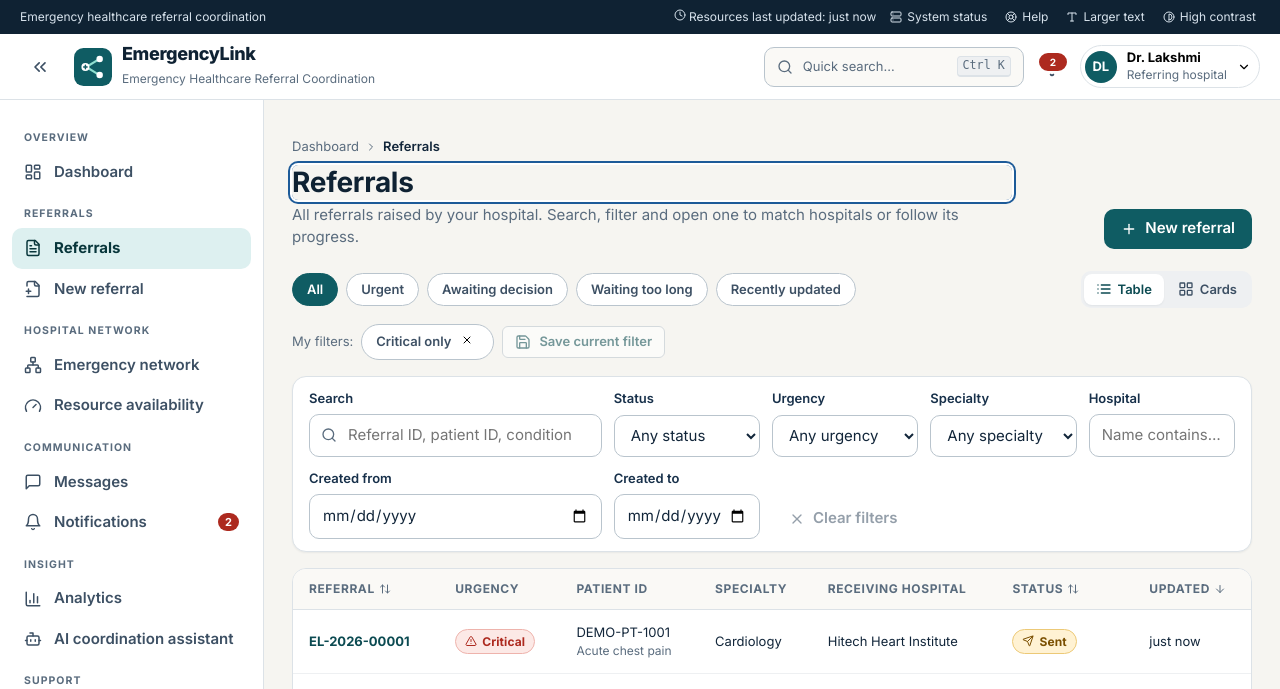
Test: administrator tools: ownership, settings, reports, audit, hospitals, saved filters › applies a saved filter on the referrals page
What coordinates should you click on to do the following:
click the button "Critical only"
I would click on:
 (414, 342)
Its box is [376, 332, 451, 352].
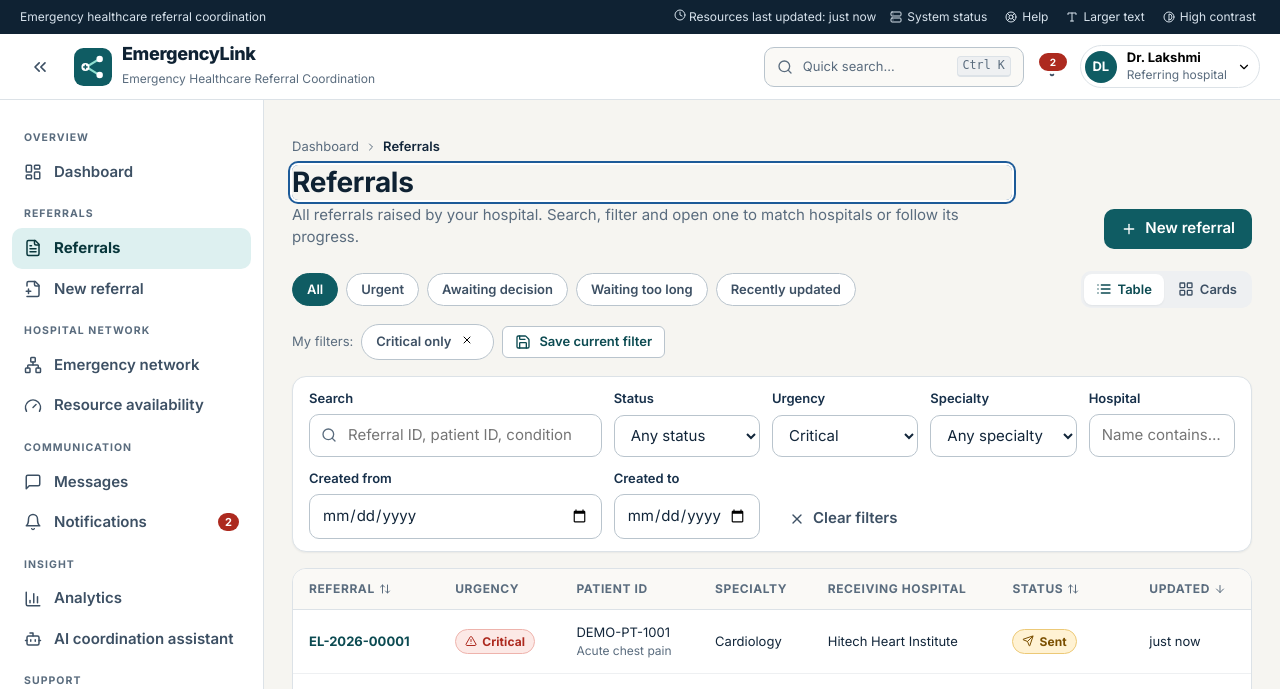
Check: the dropdown labelled "Urgency" shows "Critical", box [772, 414, 918, 456]
